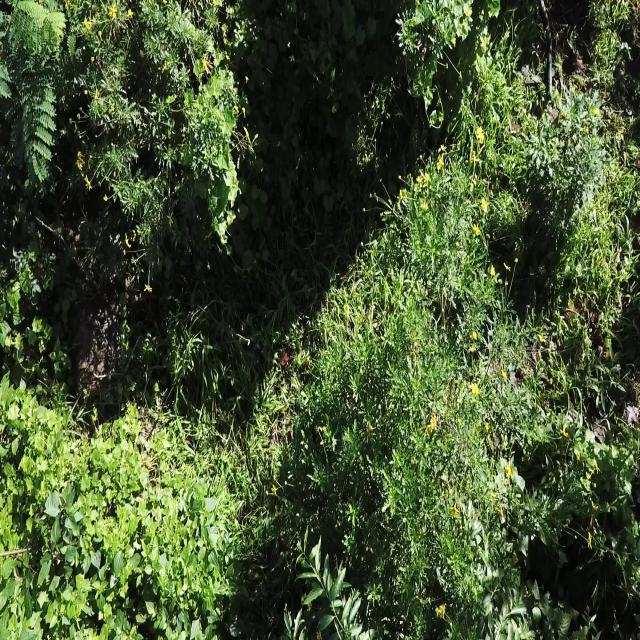Mysore-Thorn-Weed: (0, 0, 63, 194), (65, 0, 83, 57)
